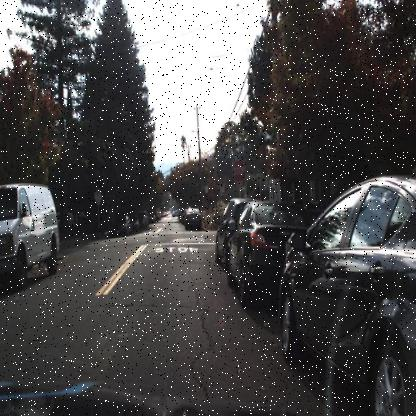car: (279, 177, 415, 416), (224, 197, 325, 308), (224, 197, 319, 308), (0, 181, 63, 292), (0, 180, 60, 290), (211, 187, 264, 275), (214, 192, 250, 264), (54, 208, 79, 236), (109, 213, 134, 239), (184, 204, 204, 233), (113, 212, 132, 237), (183, 206, 202, 231), (130, 214, 140, 234)
